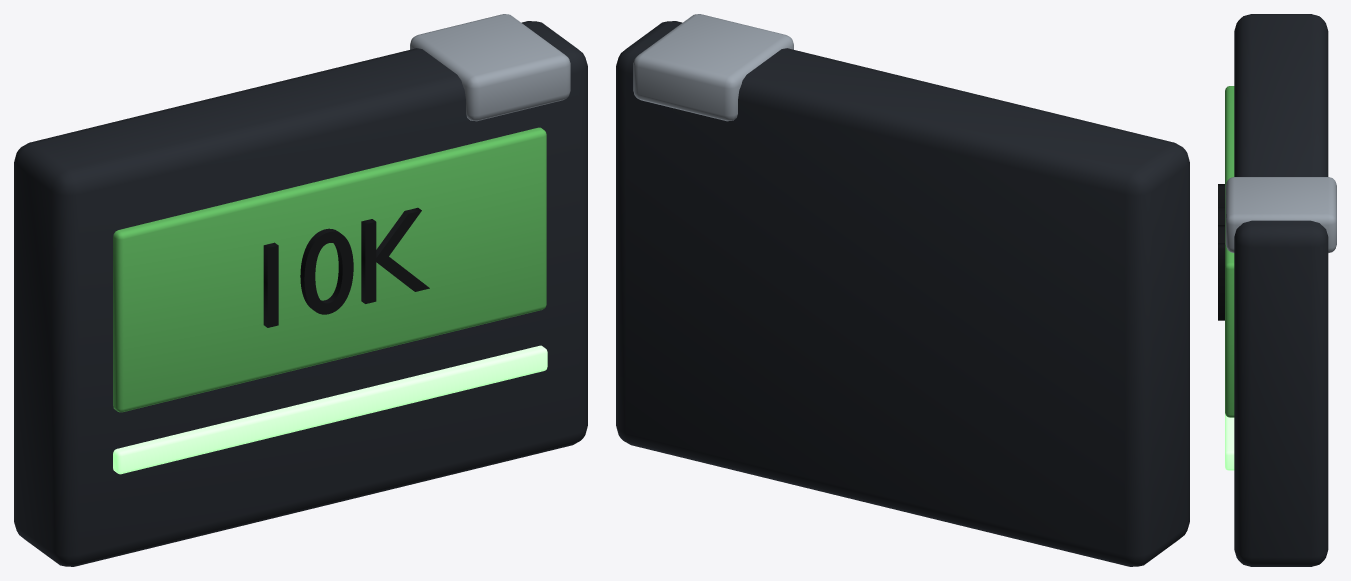
Rendered from rscDisk10k.fbx.
The picture shows the model from 3 angles, left to right: view 1: azimuth 30°, elevation 25°; view 2: azimuth 150°, elevation 25°; view 3: azimuth 270°, elevation 25°; orthographic projection. The views are drawn at different scales.
Parts seen in each view (by area): view 1: rscDisk10k_shell, rscDisk10k_label, rscDisk10k_stripe, rscDisk10k_grip, rscDisk10k_text; view 2: rscDisk10k_shell, rscDisk10k_grip; view 3: rscDisk10k_shell, rscDisk10k_grip, rscDisk10k_label, rscDisk10k_text, rscDisk10k_stripe.
Part boxes in pixels (<box>): rscDisk10k_shell: <box>14,21,587,566</box>; rscDisk10k_label: <box>113,127,546,412</box>; rscDisk10k_stripe: <box>113,345,547,474</box>; rscDisk10k_grip: <box>410,14,570,121</box>; rscDisk10k_text: <box>263,207,429,327</box>; rscDisk10k_shell: <box>616,21,1189,566</box>; rscDisk10k_grip: <box>633,14,793,121</box>; rscDisk10k_shell: <box>1234,14,1328,566</box>; rscDisk10k_grip: <box>1225,177,1336,252</box>; rscDisk10k_label: <box>1225,86,1234,417</box>; rscDisk10k_text: <box>1218,184,1224,320</box>; rscDisk10k_stripe: <box>1225,413,1234,470</box>.
Bounding box in the file's own units: 0.62 × 0.445 × 0.139.
